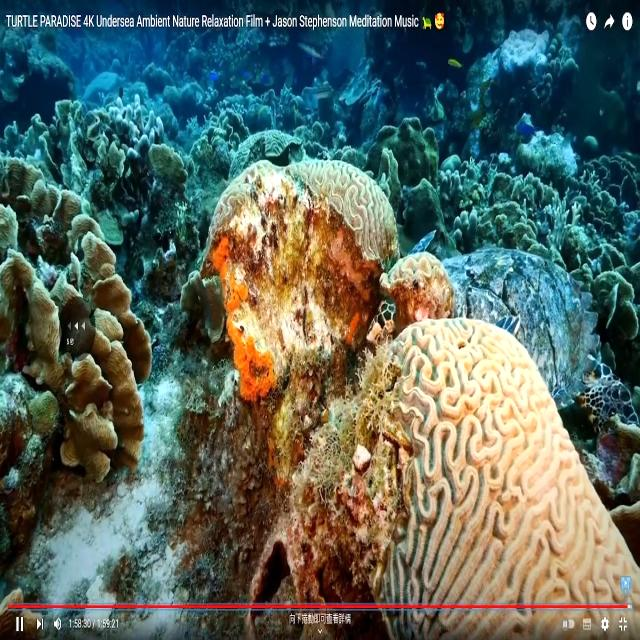Sea turtle: (408, 224, 638, 436)
